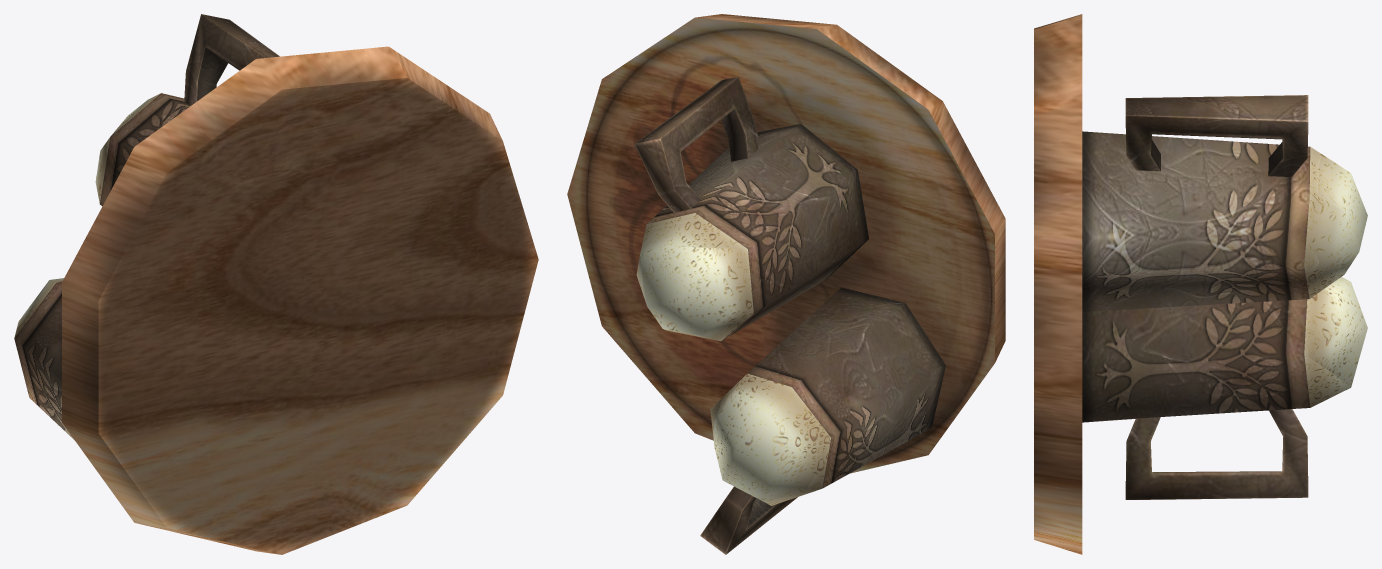
File: plate01.FBX
3 views of the same model, side by side, from view 1: azimuth 30°, elevation 25°; view 2: azimuth 150°, elevation 25°; view 3: azimuth 270°, elevation 25° (orthographic). The views are drawn at different scales.
Parts seen in each view (by area): view 1: plate01; view 2: plate01; view 3: plate01.
Boxes of the visible parts, bbox=[...] form: plate01: bbox=[14, 14, 538, 554]; plate01: bbox=[567, 14, 1005, 554]; plate01: bbox=[1034, 14, 1367, 554].
Size of the model in its own units: 0.6129 by 0.3786 by 0.6192.
